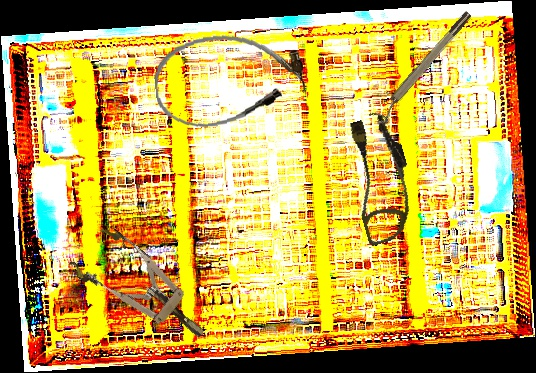Cannula: (150, 26, 309, 134), (336, 111, 426, 247)
Fixation Ring: (368, 9, 479, 128)
Speculum: (65, 219, 221, 360)
